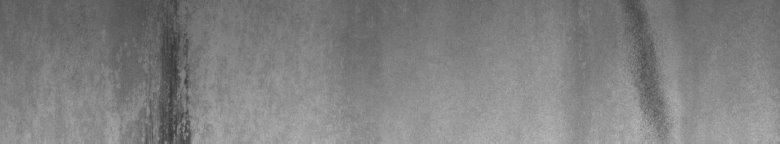ka: (102, 4, 203, 136)
